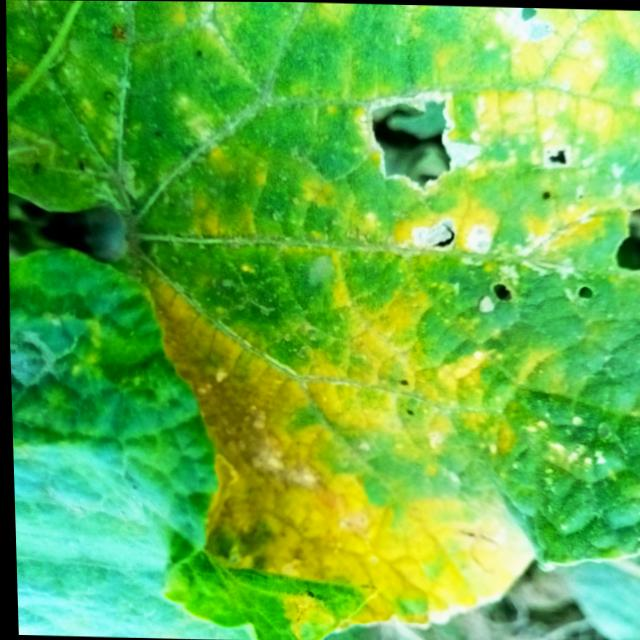Anthracnose: (362, 92, 464, 200), (487, 278, 515, 312), (542, 146, 572, 174), (574, 283, 596, 306)
